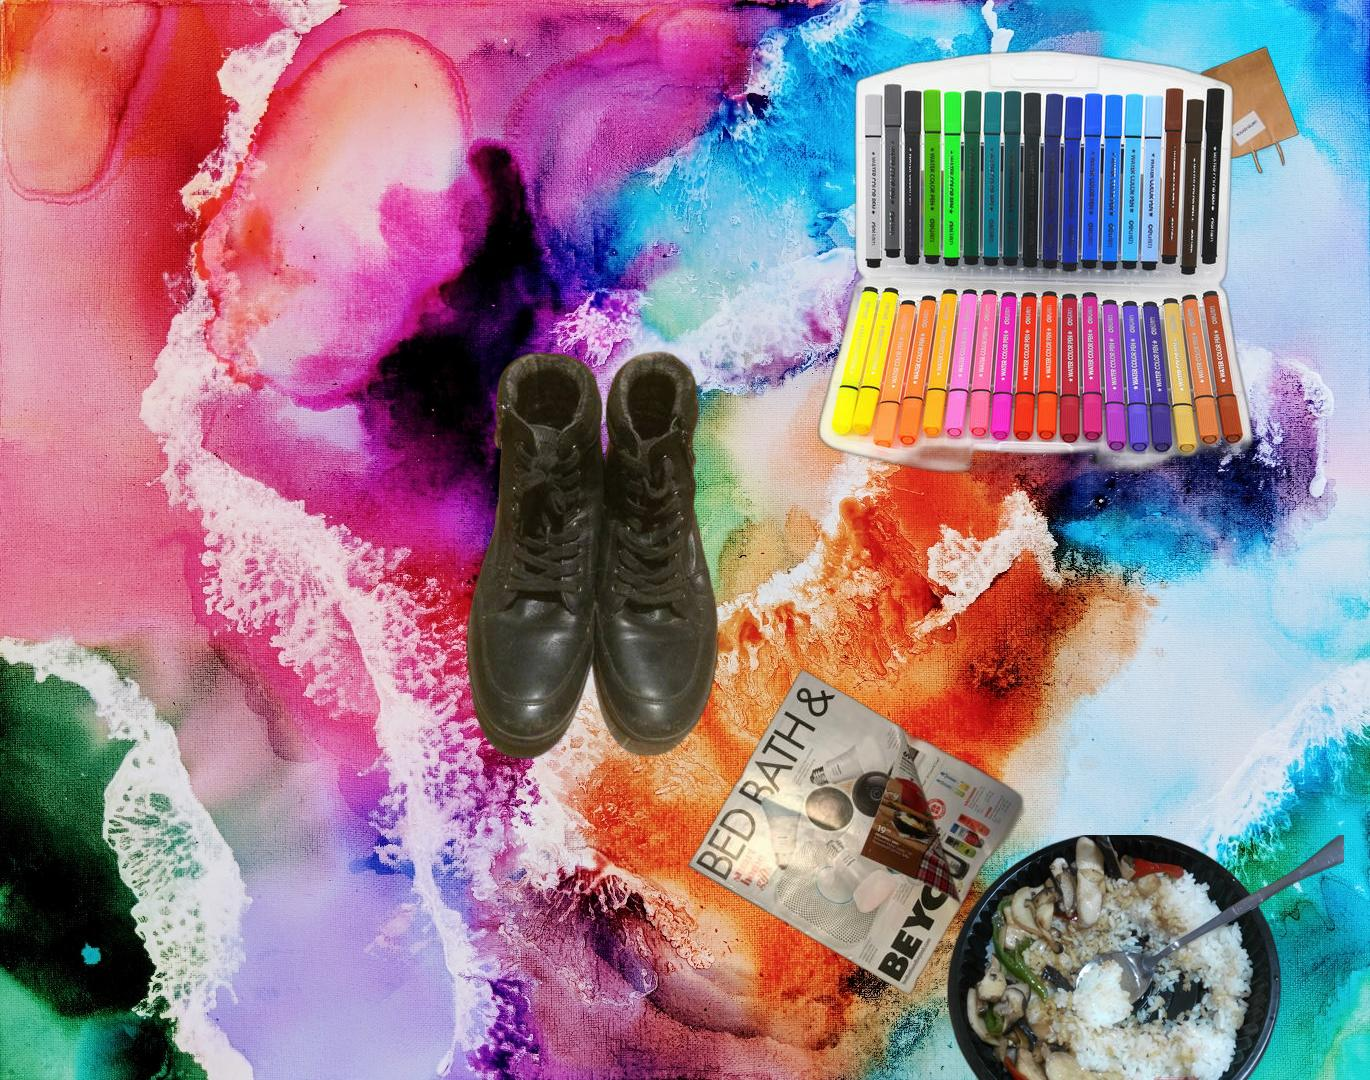biological: (944, 835, 1344, 1080)
paper: (684, 666, 1027, 998)
paper-bag: (1197, 44, 1302, 176)
penholder: (815, 46, 1257, 503)
shoes: (463, 347, 722, 764)
